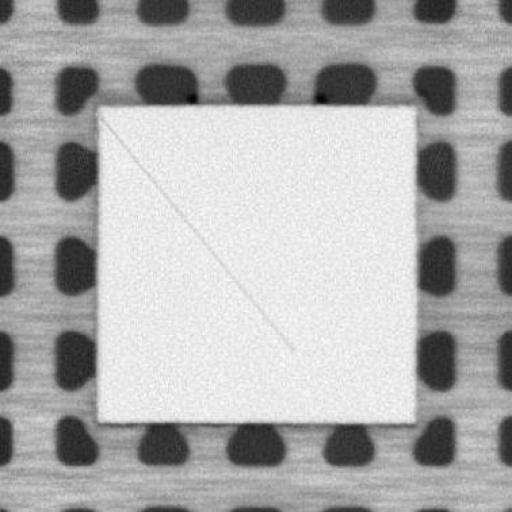DIE_CRACK: (103, 120, 294, 357)
